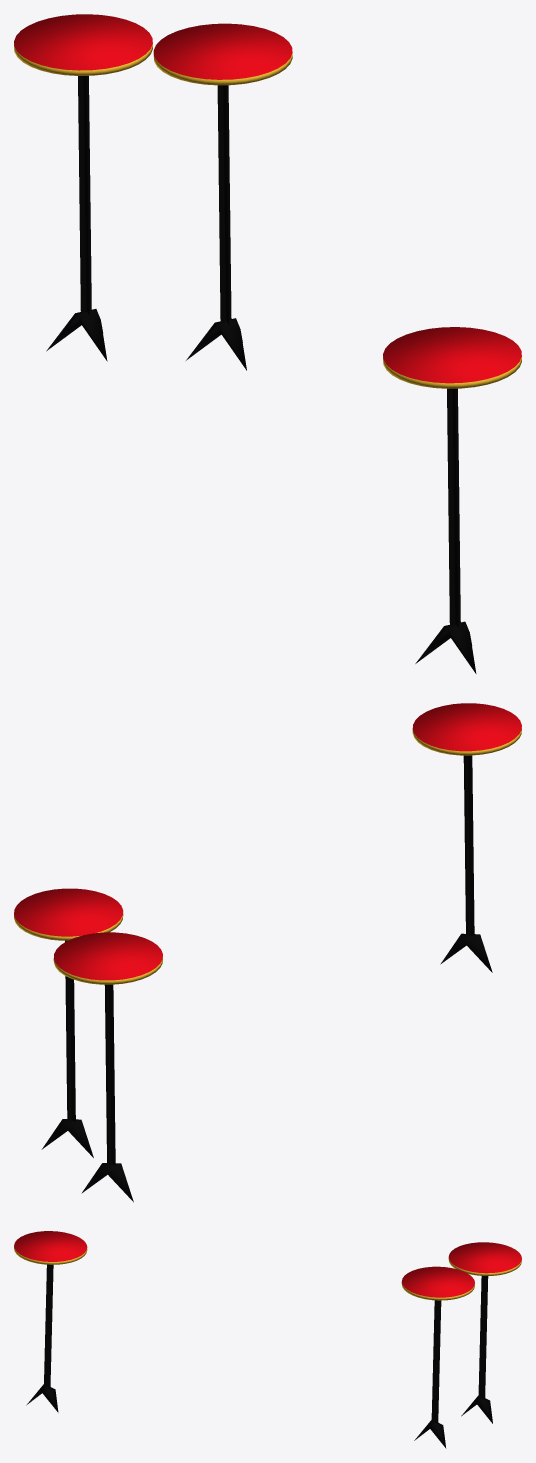
File: tables.gltf
3 views of the same model, one above another, from view 1: azimuth 30°, elevation 25°; view 2: azimuth 150°, elevation 25°; view 3: azimuth 270°, elevation 25° (orthographic). The views are drawn at different scales.
Parts seen in each view (by area): view 1: Scene_Collection_table_ronde_petite_haute_LOW_2 (×3), Scene_Collection_table_ronde_petite_haute_LOW (×3), Scene_Collection_table_ronde_petite_haute_LOW_1 (×3); view 2: Scene_Collection_table_ronde_petite_haute_LOW_2 (×3), Scene_Collection_table_ronde_petite_haute_LOW (×3); view 3: Scene_Collection_table_ronde_petite_haute_LOW_2 (×3), Scene_Collection_table_ronde_petite_haute_LOW (×3), Scene_Collection_table_ronde_petite_haute_LOW_1.
Boxes of the visible parts, <box> form: Scene_Collection_table_ronde_petite_haute_LOW_2 (×3): <box>14,14,521,383</box>; Scene_Collection_table_ronde_petite_haute_LOW (×3): <box>46,76,476,673</box>; Scene_Collection_table_ronde_petite_haute_LOW_1 (×3): <box>14,43,521,388</box>; Scene_Collection_table_ronde_petite_haute_LOW_2 (×3): <box>14,703,521,980</box>; Scene_Collection_table_ronde_petite_haute_LOW (×3): <box>41,755,492,1202</box>; Scene_Collection_table_ronde_petite_haute_LOW_2 (×3): <box>14,1231,521,1297</box>; Scene_Collection_table_ronde_petite_haute_LOW (×3): <box>26,1264,492,1448</box>; Scene_Collection_table_ronde_petite_haute_LOW_1: <box>401,1282,474,1300</box>.
Bounding box in the file's own units: 0.3645 × 0.4092 × 1.17.
